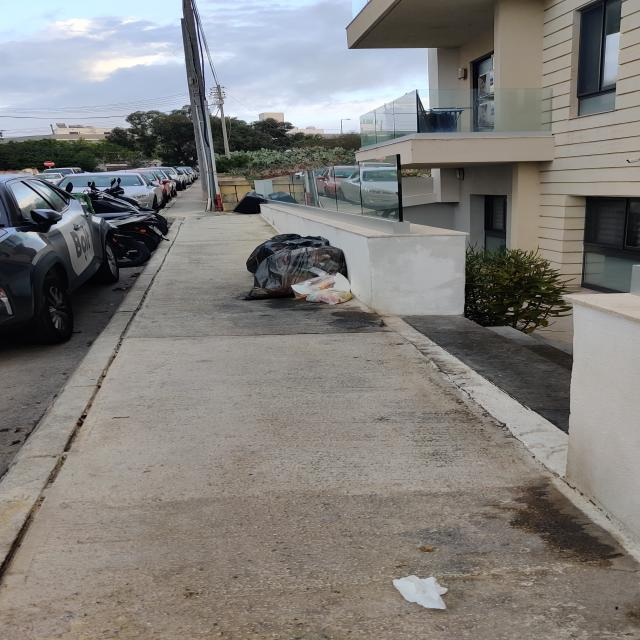Mixed Waste -Black Bags-: (243, 233, 349, 301)
Organic Waste -White Bags-: (291, 273, 352, 304)
